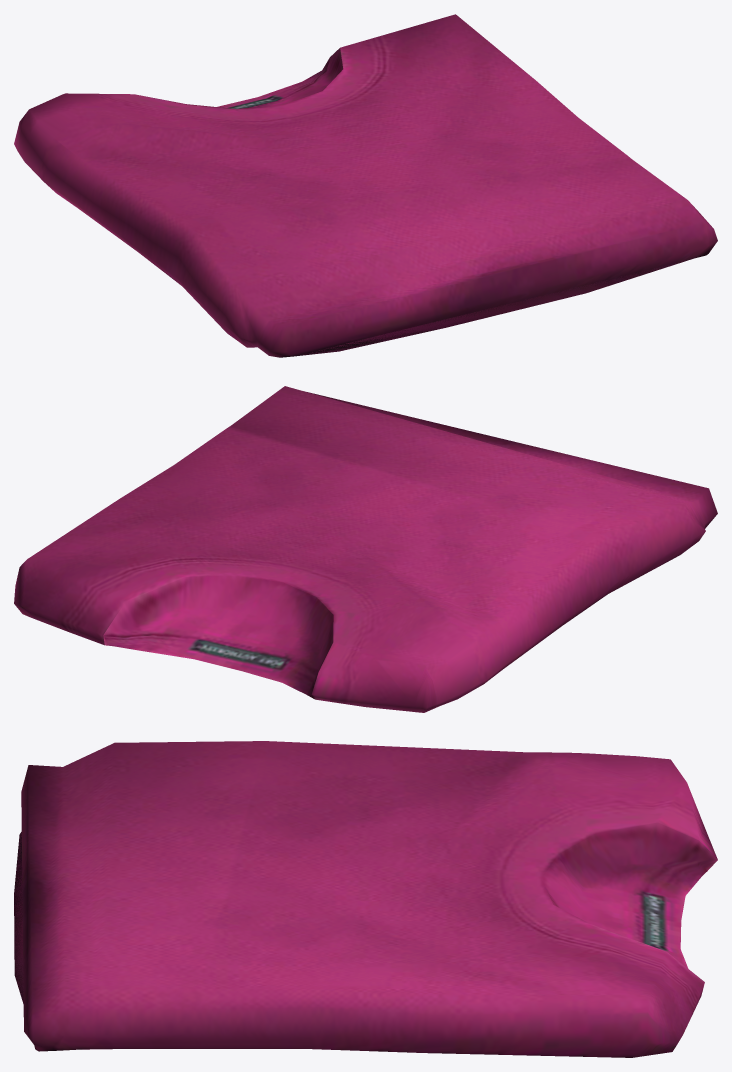
The model's file is TShirt_Folded_Pink.fbx.
3 renders of one model, top to bottom at view 1: azimuth 30°, elevation 25°; view 2: azimuth 150°, elevation 25°; view 3: azimuth 270°, elevation 25°, orthographic. The views are drawn at different scales.
Visible parts, largest first — view 1: TShirt_Folded_Pink; view 2: TShirt_Folded_Pink; view 3: TShirt_Folded_Pink.
Part boxes in pixels (x1=…): TShirt_Folded_Pink: x1=14, y1=14, x2=717, y2=357; TShirt_Folded_Pink: x1=14, y1=386, x2=717, y2=712; TShirt_Folded_Pink: x1=14, y1=741, x2=717, y2=1057.
Size of the model in its own units: 0.4585 by 0.056 by 0.5042.
